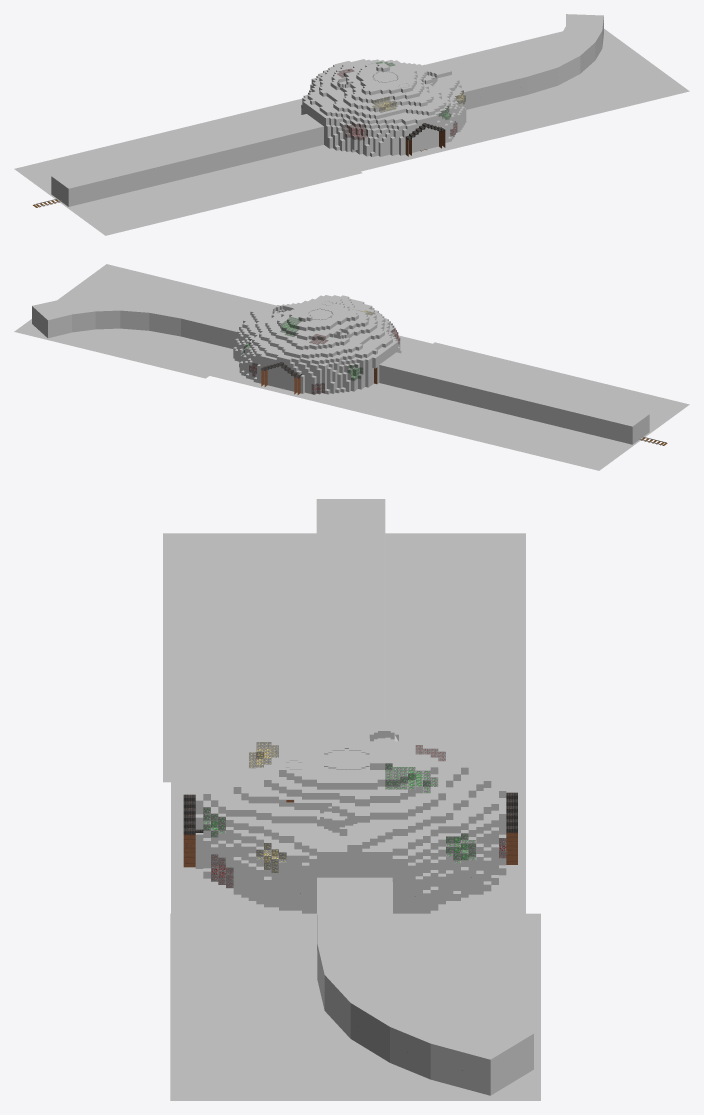
Rendered from Arena_Mine.fbx.
3 renders of one model, top to bottom at view 1: azimuth 30°, elevation 25°; view 2: azimuth 150°, elevation 25°; view 3: azimuth 270°, elevation 25°, orthographic. The views are drawn at different scales.
Visible parts, largest first — view 1: Sphere0011_02, Sphere0011_01, Ground, Sphere0011, Zaval_Mirror002; view 2: Sphere0011_02, Sphere0011_01, Ground, Sphere0011, Zaval Mirror002; view 3: Sphere0011_01, Sphere0011_02, Ground, Sphere0011, Zaval_Mirror002.
Boxes of the visible parts, <box> form: Sphere0011_02: <box>51,14,603,206</box>; Sphere0011_01: <box>14,29,689,235</box>; Ground: <box>271,98,495,171</box>; Sphere0011: <box>301,61,465,140</box>; Zaval_Mirror002: <box>405,123,445,156</box>; Sphere0011_02: <box>32,294,649,444</box>; Sphere0011_01: <box>14,264,689,470</box>; Ground: <box>210,335,432,408</box>; Sphere0011: <box>242,308,400,394</box>; Zaval Mirror002: <box>261,362,302,394</box>; Sphere0011_01: <box>163,533,540,1100</box>; Sphere0011_02: <box>195,499,533,1095</box>; Ground: <box>171,782,525,913</box>; Sphere0011: <box>203,742,506,888</box>; Zaval_Mirror002: <box>183,794,203,867</box>.
Size of the model in its own units: 185 by 14.47 by 50.12.
